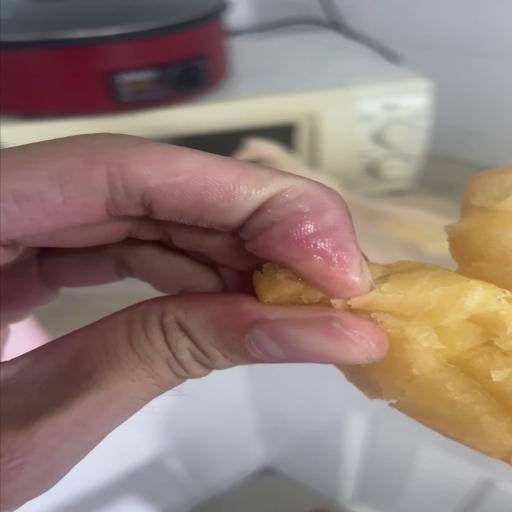street_golden_defect: (255, 255, 512, 464)
